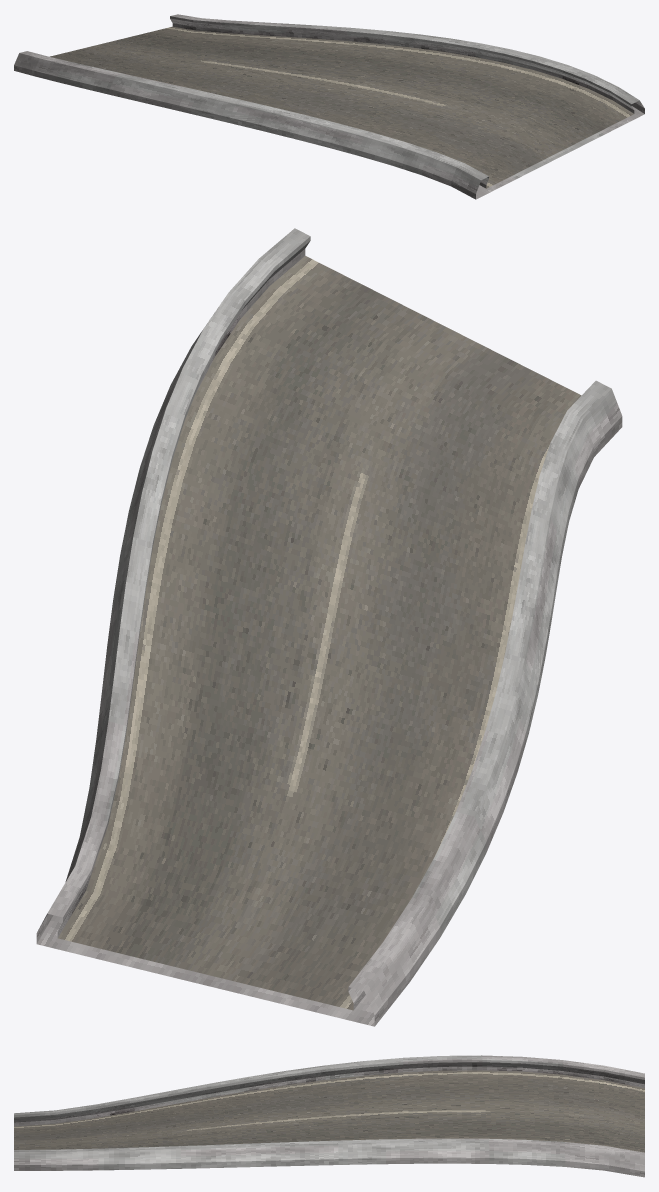
File: chicane-left1x3.glb
3 views of the same model, one above another, from view 1: azimuth 30°, elevation 25°; view 2: azimuth 150°, elevation 25°; view 3: azimuth 270°, elevation 25° (orthographic). The views are drawn at different scales.
Visible parts, largest first — view 1: road-Chicane-HalfBankedLeft-BiSlopeDown-Down1-Left1-Size3; view 2: road-Chicane-HalfBankedLeft-BiSlopeDown-Down1-Left1-Size3; view 3: road-Chicane-HalfBankedLeft-BiSlopeDown-Down1-Left1-Size3.
Boxes of the visible parts, box(x1,y1,x2,y2) form: road-Chicane-HalfBankedLeft-BiSlopeDown-Down1-Left1-Size3: box(14, 14, 644, 199); road-Chicane-HalfBankedLeft-BiSlopeDown-Down1-Left1-Size3: box(36, 228, 622, 1026); road-Chicane-HalfBankedLeft-BiSlopeDown-Down1-Left1-Size3: box(14, 1055, 644, 1177).
Bounding box in the file's own units: 2 × 0.5859 × 3.
2 materials, 2 textured.
